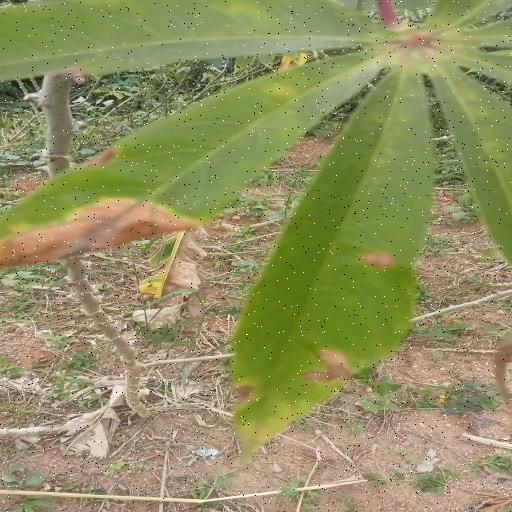Cassava_Brown_Leaf_Spot: (7, 0, 511, 447)
